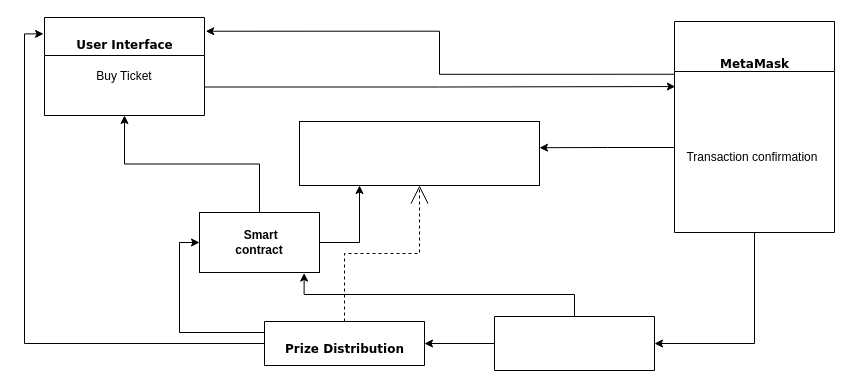
Some shapes in this 852 by 388 pixel diagram are drawn without their labels. The shapes that lost their labels are listed below. From the top down, each one's centre as x and y in pixels, then its label:
pixel 419 153: Blockchain
pixel 574 343: Generate Winner
